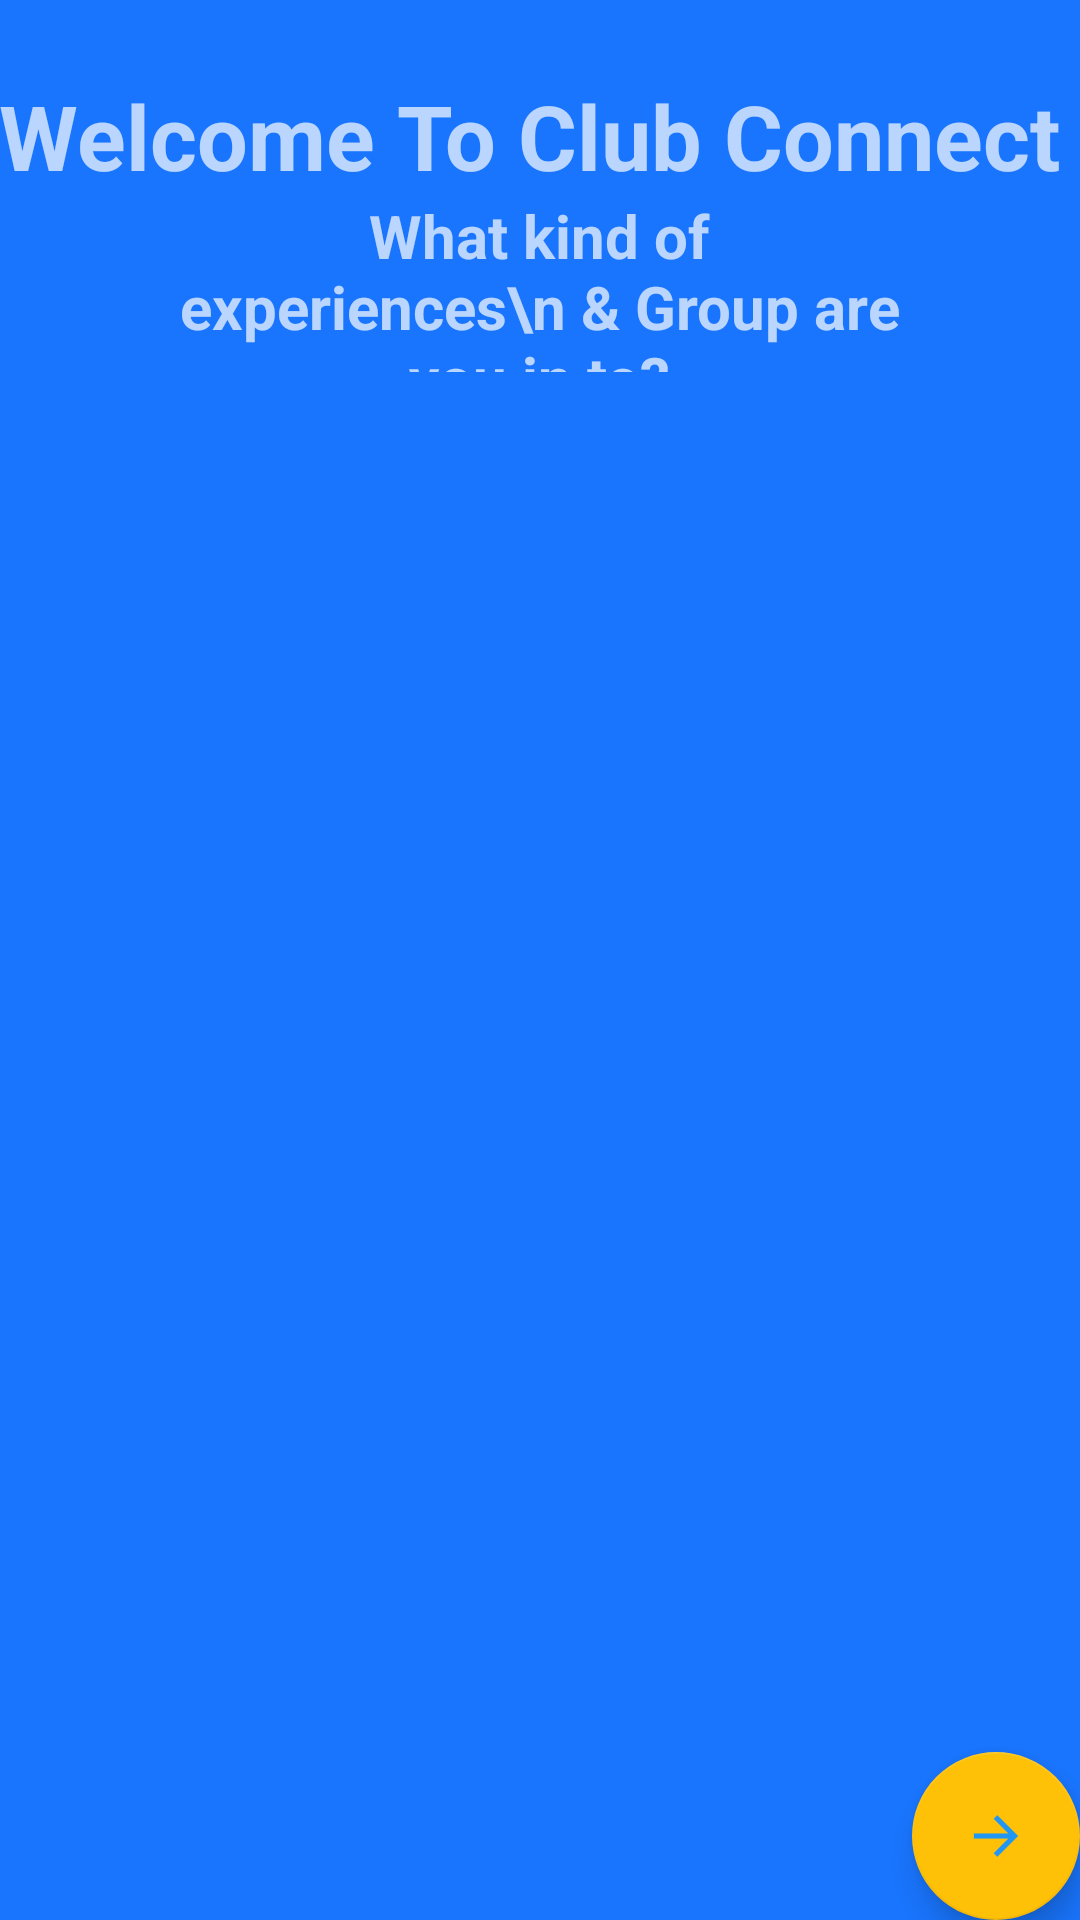

Icons on this 1080px x 1920px Android screen, each with its box as (x1, y1, x2, y2):
next: (912, 1752, 1080, 1920)
